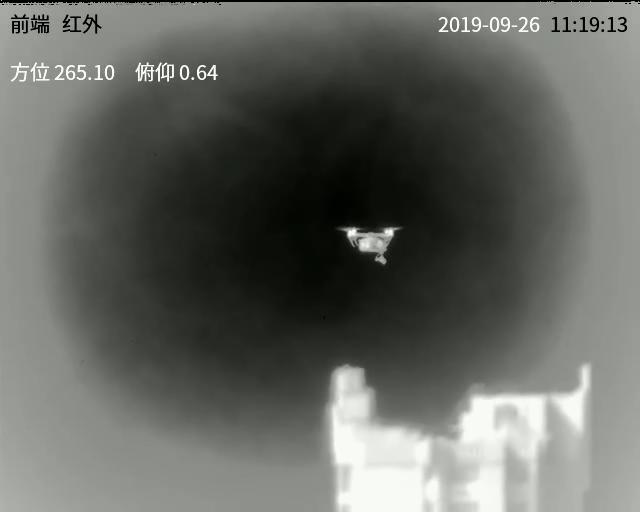uav: (337, 222, 406, 271)
